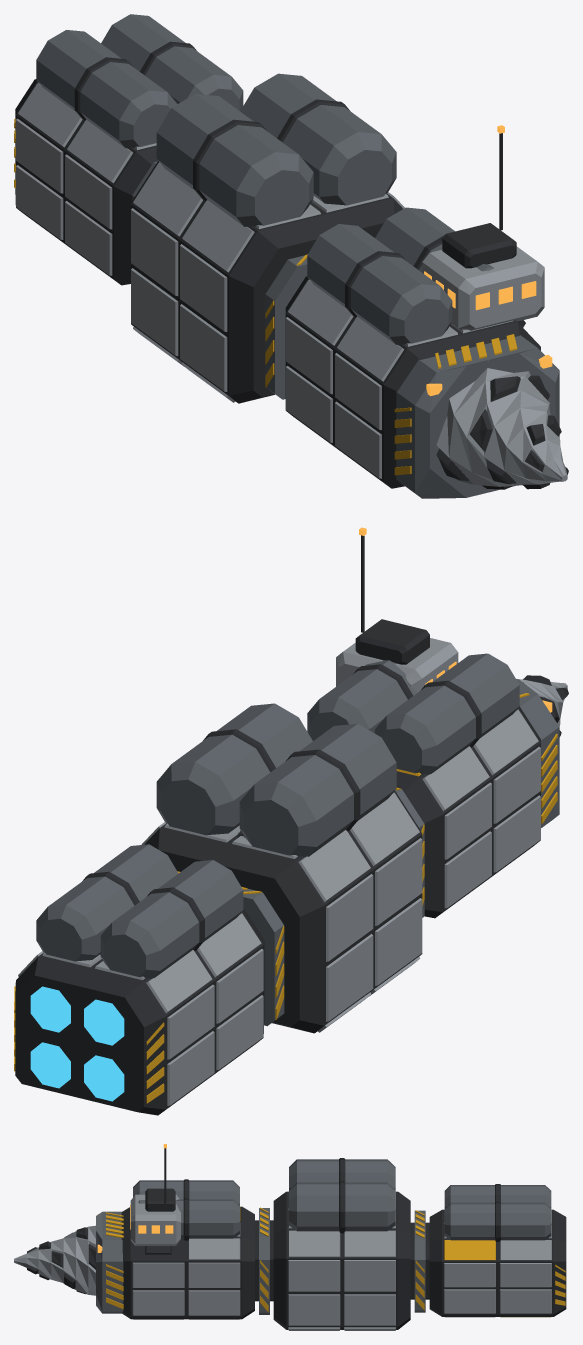
File: miner.glb
3 views of the same model, one above another, from view 1: azimuth 30°, elevation 25°; view 2: azimuth 150°, elevation 25°; view 3: azimuth 270°, elevation 25° (orthographic). The views are drawn at different scales.
Parts seen in each view (by area): view 1: accent2, primary, structure, accent, windows; view 2: accent2, primary, structure, engineGlow, accent; view 3: primary, accent2, structure, accent, windows.
Boxes of the visible parts, x1,y1,x2,y2 form: accent2: (36,14,559,498); primary: (16,83,567,486); structure: (15,41,568,489); accent: (14,119,517,475); windows: (424,125,552,396); accent2: (36,653,559,1026); primary: (18,638,567,1105); structure: (15,535,568,1115); engineGlow: (30,986,124,1101); accent: (14,693,557,1103); primary: (14,1191,551,1330); accent2: (96,1159,551,1314); structure: (26,1148,566,1329); accent: (106,1207,565,1317); windows: (97,1144,173,1252).
Size of the model in its own units: 8.26 by 12.72 by 35.24.
